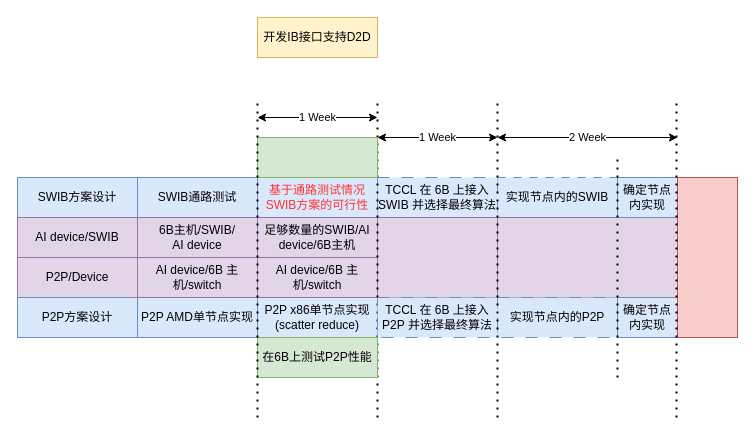
Image size: 755x437. Some labels were removed from this diagram. Here are the shapes that lost their labels. From the top down, the centre of each, then its label:
pixel 317 157: 在6B上测试SWIB通路
pixel 437 257: 200P机器单节点资源
pixel 587 257: 200P机器/神威交换机
pixel 707 257: 确定超节点内 的实现
